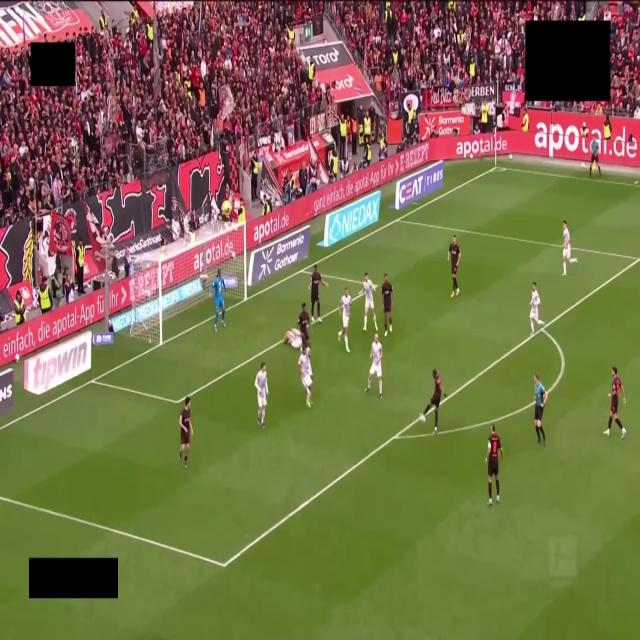player: (420, 368, 446, 434), (604, 368, 626, 438), (486, 425, 503, 505), (309, 265, 328, 323), (359, 272, 377, 331), (366, 334, 382, 398), (179, 397, 192, 468), (255, 362, 268, 428), (211, 270, 225, 331), (338, 288, 351, 352), (298, 348, 312, 407), (381, 274, 394, 336), (563, 221, 577, 275), (530, 282, 544, 335), (448, 236, 460, 297), (298, 304, 309, 348), (284, 328, 302, 350)
referee: (534, 375, 548, 445)
